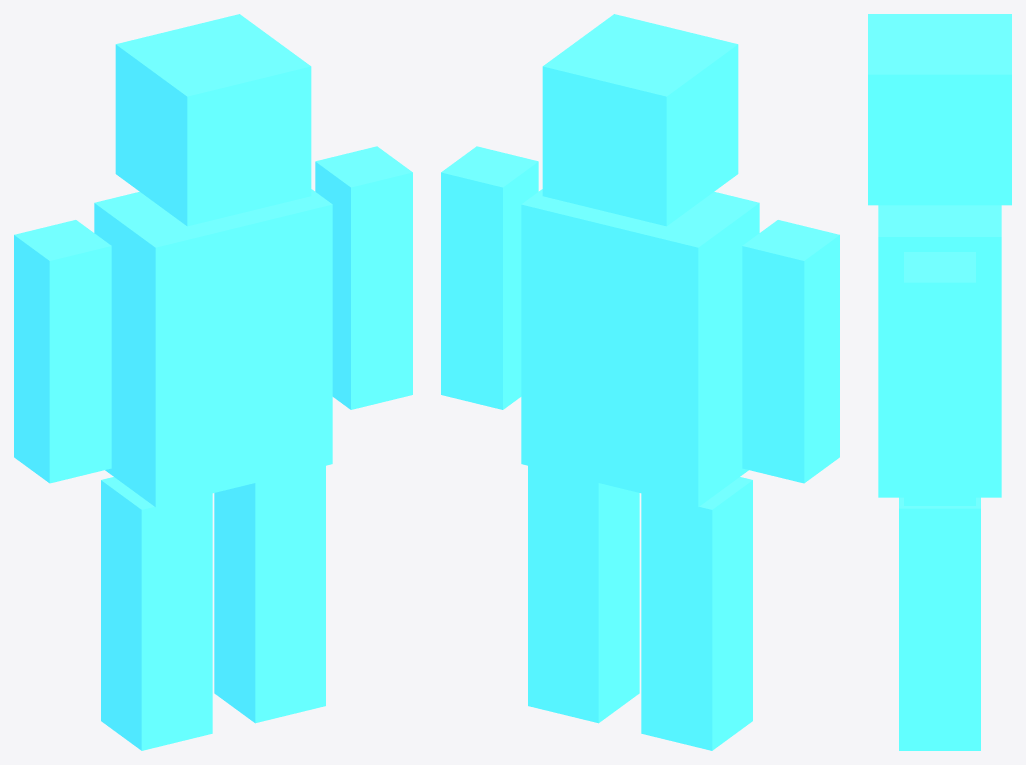
File: robot.glb
3 views of the same model, side by side, from view 1: azimuth 30°, elevation 25°; view 2: azimuth 150°, elevation 25°; view 3: azimuth 270°, elevation 25° (orthographic).
Visible parts, largest first — view 1: Torso, Head, LegL, LegR, ArmL, ArmR; view 2: Torso, Head, LegL, LegR, ArmL, ArmR; view 3: Head, LegR, Torso, ArmR.
Boxes of the visible parts, x1,y1,x2,y2 form: Torso: (94, 189, 332, 507); Head: (115, 14, 311, 226); LegL: (101, 477, 212, 750); LegR: (214, 466, 325, 723); ArmL: (14, 220, 111, 483); ArmR: (315, 146, 412, 409); Torso: (521, 189, 759, 507); Head: (542, 14, 738, 226); LegL: (641, 477, 752, 750); LegR: (528, 466, 639, 723); ArmL: (742, 220, 839, 483); ArmR: (441, 146, 538, 409); Head: (868, 14, 1011, 205); LegR: (899, 497, 980, 750); Torso: (878, 205, 1001, 497); ArmR: (904, 252, 975, 505).
Size of the model in its own units: 2.05 by 3.55 by 0.7.
